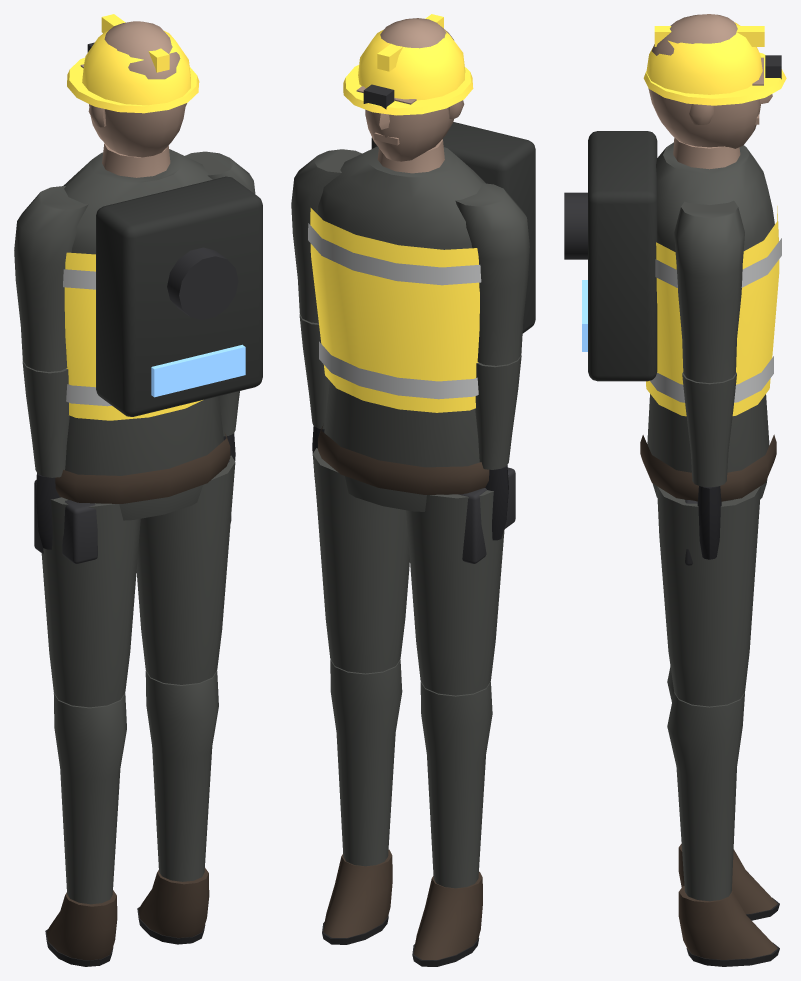
File: char_engineer.glb
3 views of the same model, side by side, from view 1: azimuth 30°, elevation 25°; view 2: azimuth 150°, elevation 25°; view 3: azimuth 270°, elevation 25° (orthographic).
Visible parts, largest first — view 1: char_engineer; view 2: char_engineer; view 3: char_engineer.
Boxes of the visible parts, x1,y1,x2,y2 form: char_engineer: [14, 14, 262, 966]; char_engineer: [291, 14, 535, 966]; char_engineer: [564, 14, 786, 966].
Size of what is drawn, in the model's own units: 0.4867 by 1.83 by 0.404.
